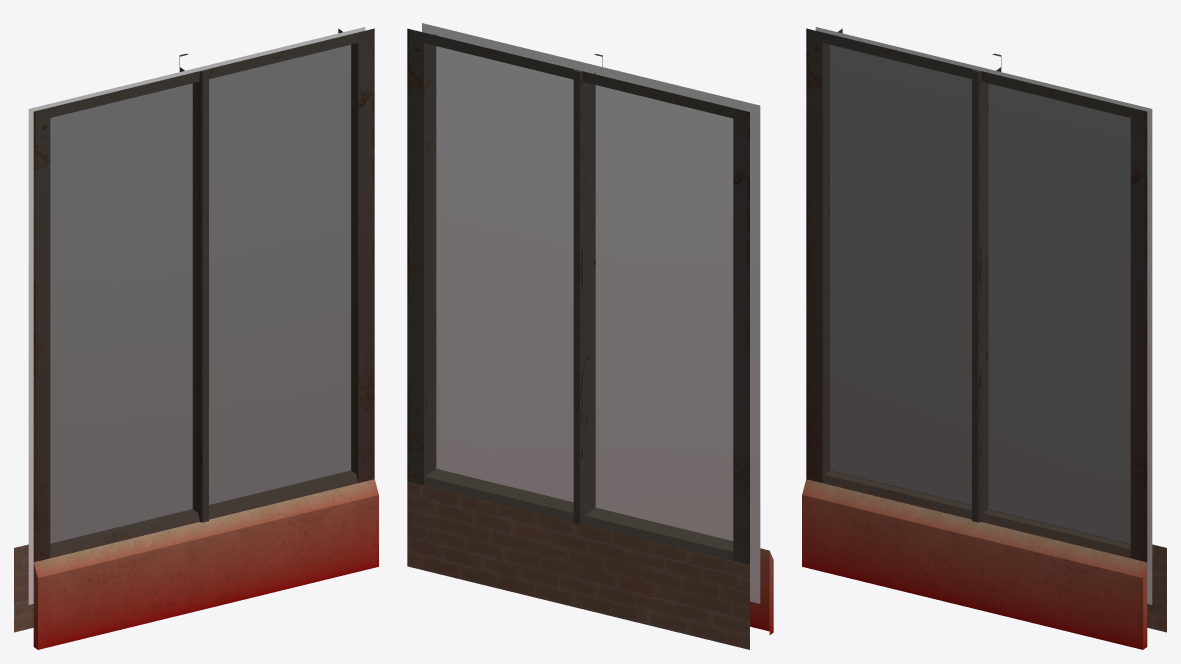
Rendered from Metal_FirstFloor_Window.gltf.
3 renders of one model, left to right at view 1: azimuth 30°, elevation 25°; view 2: azimuth 150°, elevation 25°; view 3: azimuth 330°, elevation 25°, orthographic.
Visible parts, largest first — view 1: Metal_FirstFloor_Window; view 2: Metal_FirstFloor_Window; view 3: Metal_FirstFloor_Window.
Part boxes in pixels (<box>): Metal_FirstFloor_Window: <box>14,27,378,649</box>; Metal_FirstFloor_Window: <box>407,23,773,649</box>; Metal_FirstFloor_Window: <box>802,27,1166,649</box>.
Bounding box in the file's own units: 2 × 3 × 0.2588.
5 materials, 3 textured.
